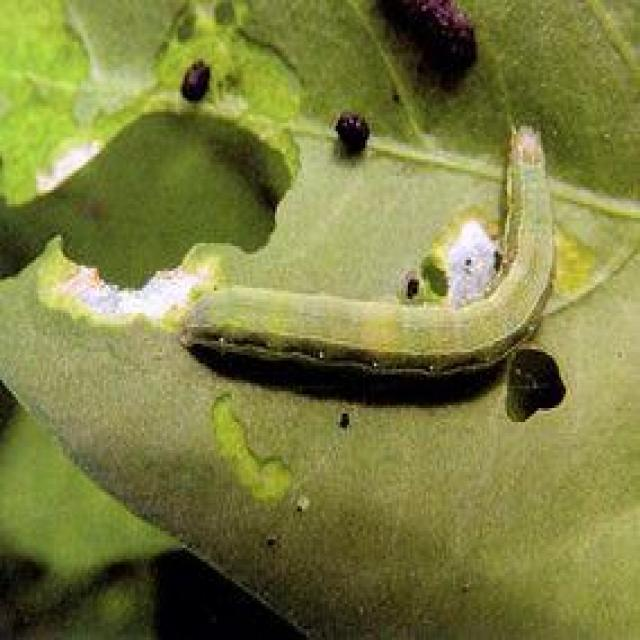BeetArmyWorm-Larva-: (170, 122, 566, 384)
